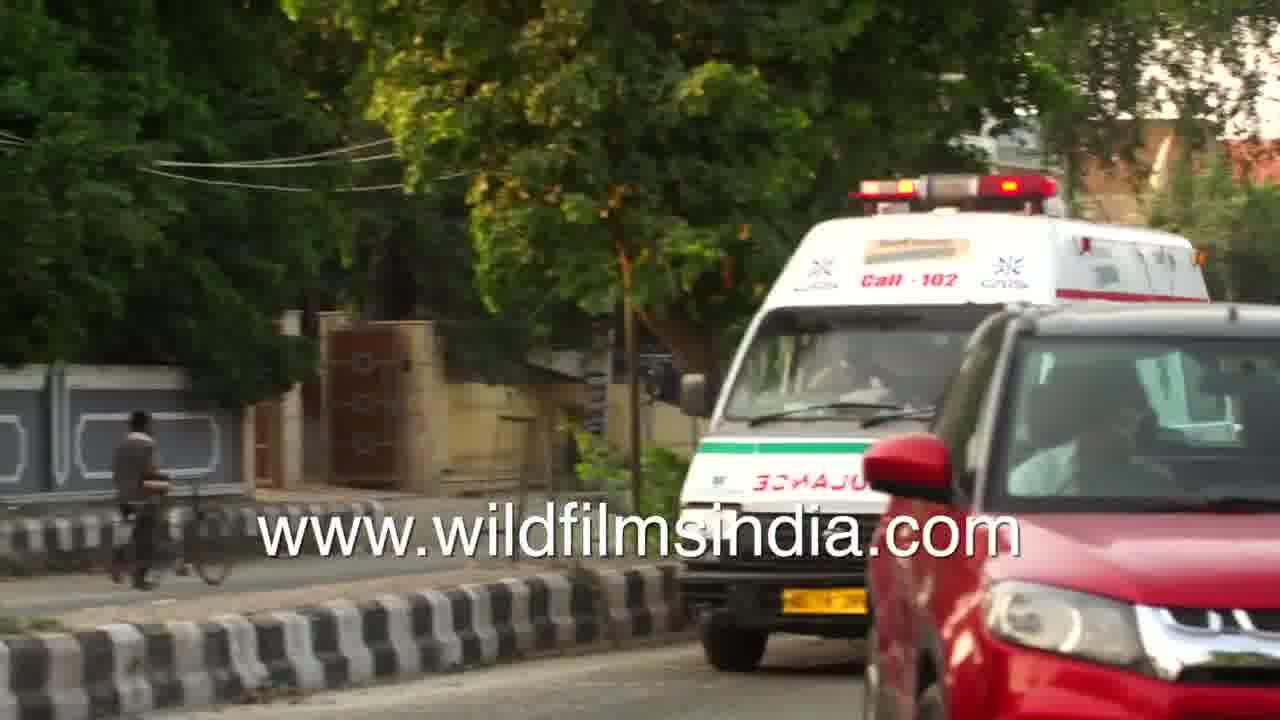AMBULANCE: (685, 146, 1225, 501)
